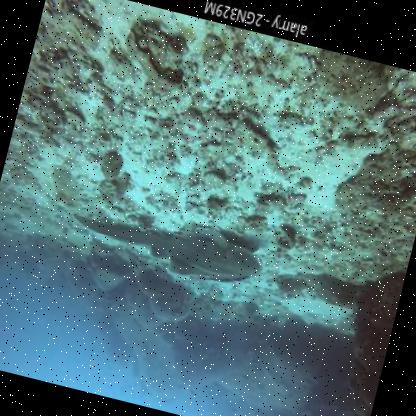zebra_shark: (51, 166, 276, 312)
